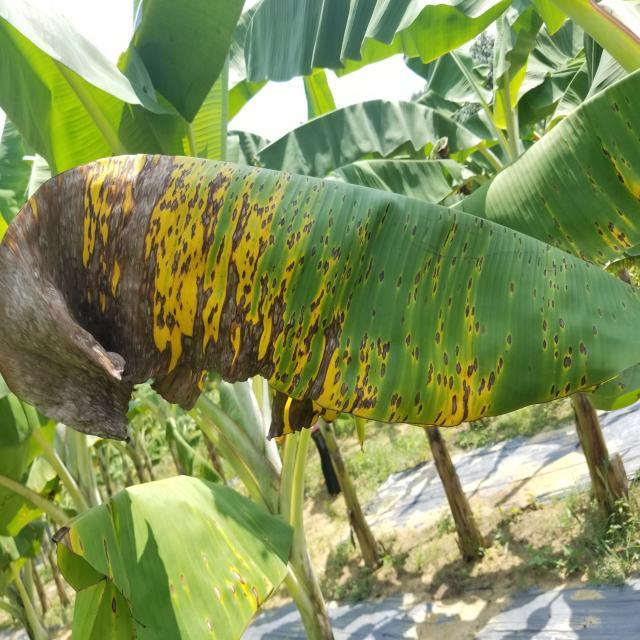Early_rust: (0, 144, 640, 473), (27, 489, 287, 635)
